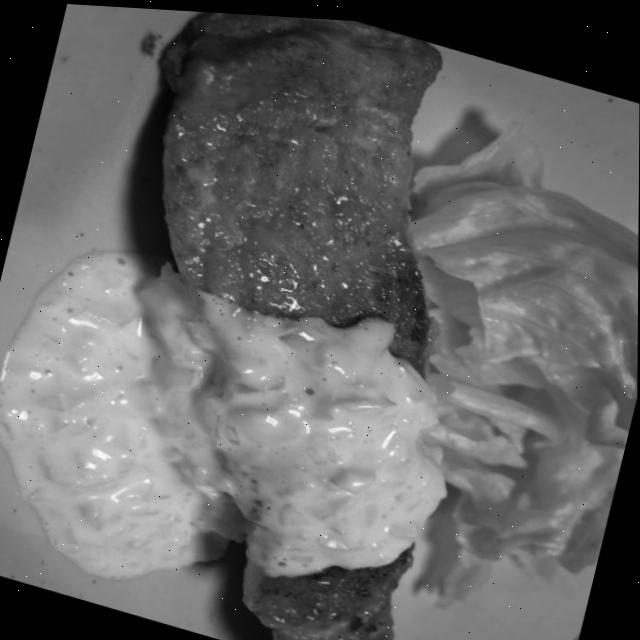熟制海鲜: (17, 1, 552, 640)
